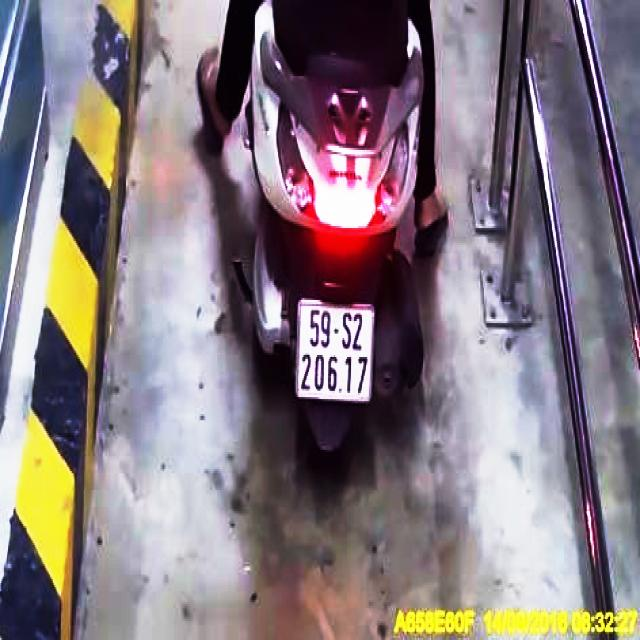license_plate: (296, 301, 373, 404)
